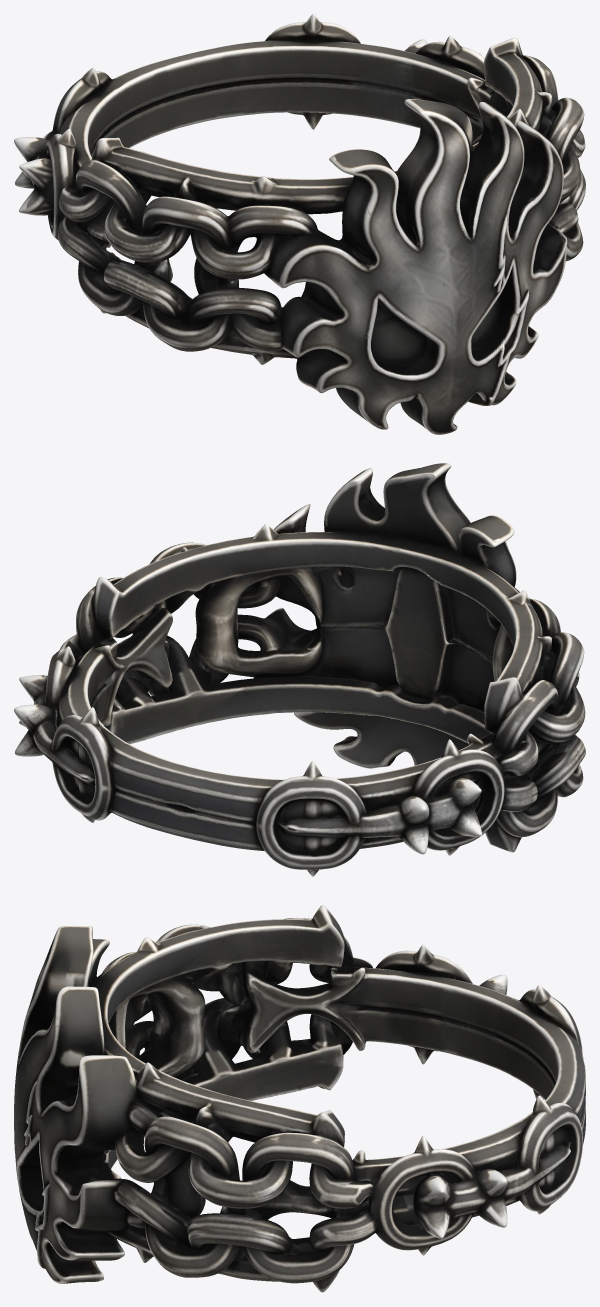
File: cognac.glb
3 renders of one model, top to bottom at view 1: azimuth 30°, elevation 25°; view 2: azimuth 150°, elevation 25°; view 3: azimuth 270°, elevation 25°, orthographic. The views are drawn at different scales.
Visible parts, largest first — view 1: Mesh_0; view 2: Mesh_0; view 3: Mesh_0.
Part boxes in pixels (box(x1,y1,x2,y2)): Mesh_0: box(14, 14, 585, 434); Mesh_0: box(14, 463, 585, 876); Mesh_0: box(14, 905, 585, 1292).
Size of the model in its own units: 0.0604 by 0.04 by 0.062.
1 material, 1 textured.
